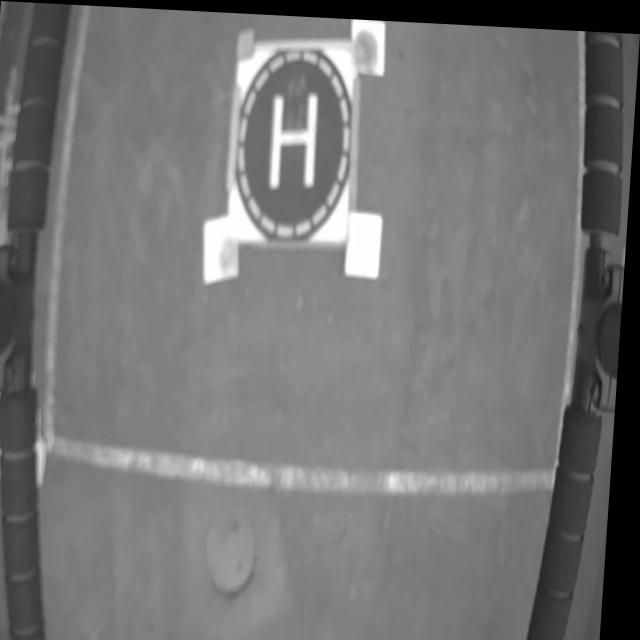Helipad: (269, 89, 319, 184)
